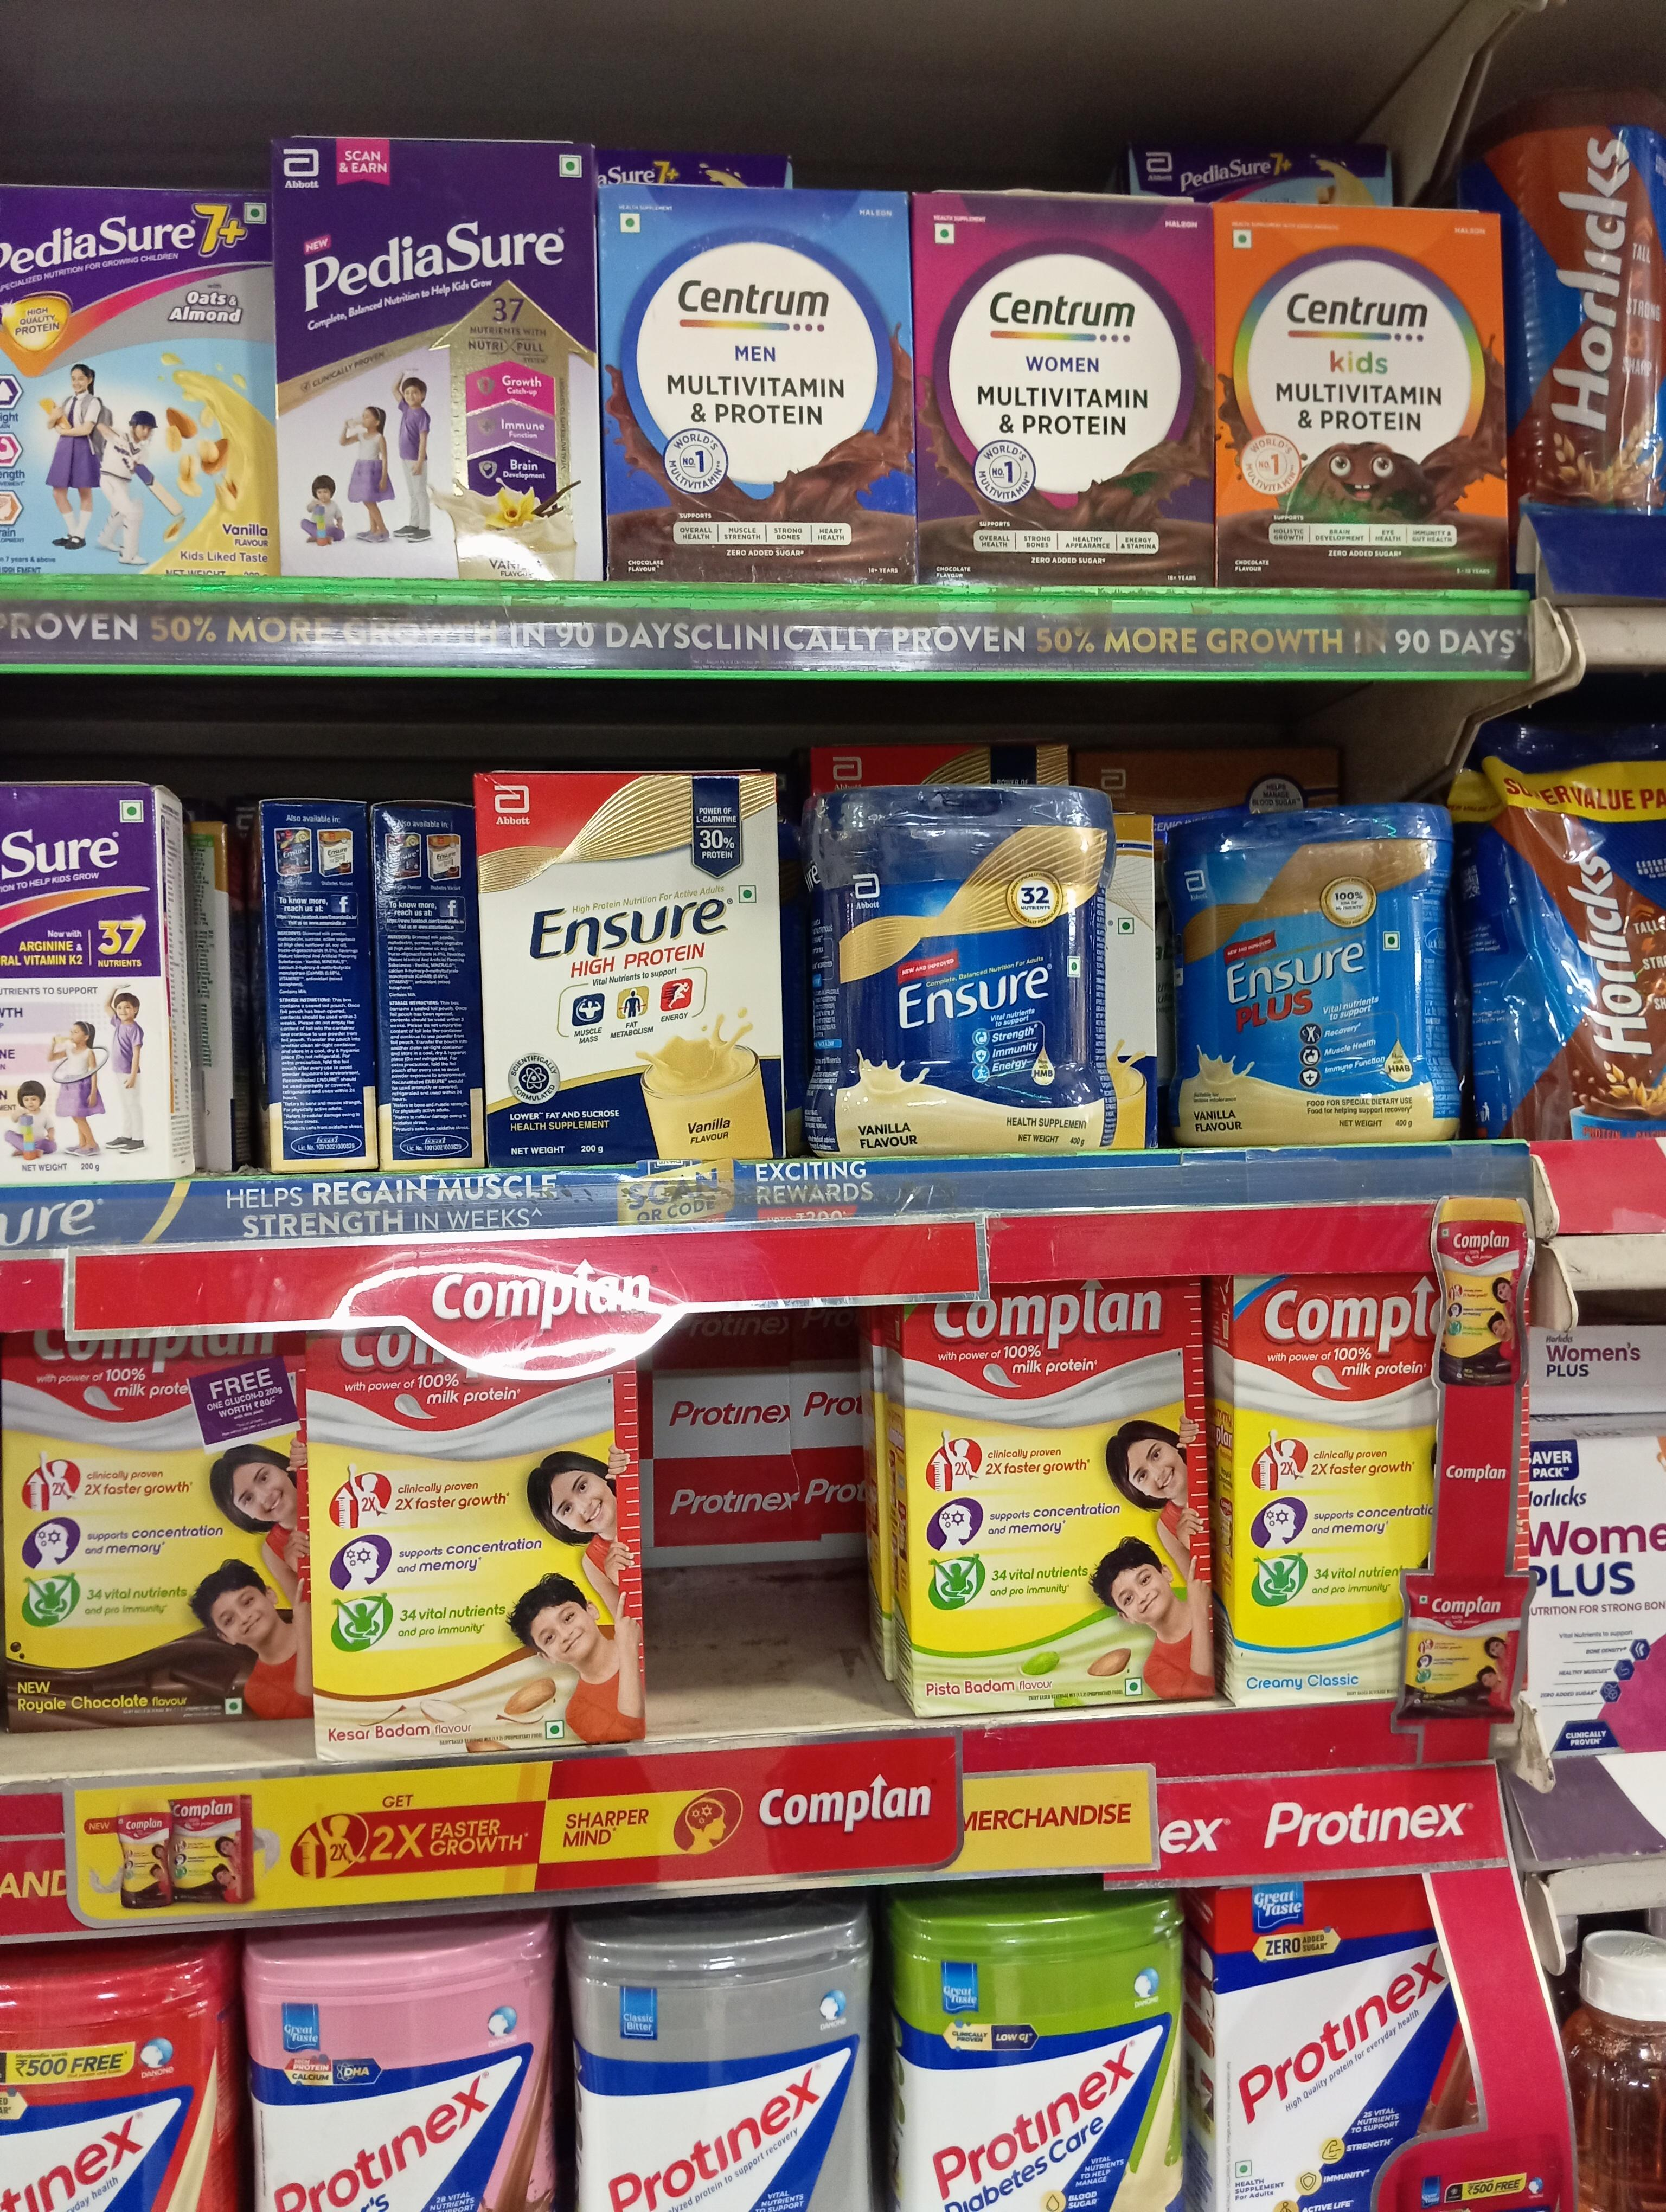COMPLAN_CHOCOLATE_500_GMS_PACK: (2, 1329, 308, 1726)
COMPLAN_CREAMY_CLASSIC_500_G_PACK: (1232, 1285, 1402, 1705)
COMPLAN_KESAR_BADAM_500_GMS_PACK: (315, 1338, 646, 1745)
COMPLAN_PISTA_BADAM_500_GMS_PACK: (905, 1301, 1215, 1708)
ENSURE_VANILLA_400_G_PACK: (478, 769, 789, 1166)
HORLICK_CHOCOLATE_1_KG_JAR: (1510, 100, 1666, 511)
HORLICK_CHOCOLATE_750_G_POUCH: (1475, 731, 1666, 1133)
PEDIASURE_VANILLA_500_G_PACK: (285, 136, 588, 582)
PROTINEX_ORIGINAL_400_G_JAR: (574, 1930, 873, 2212)
